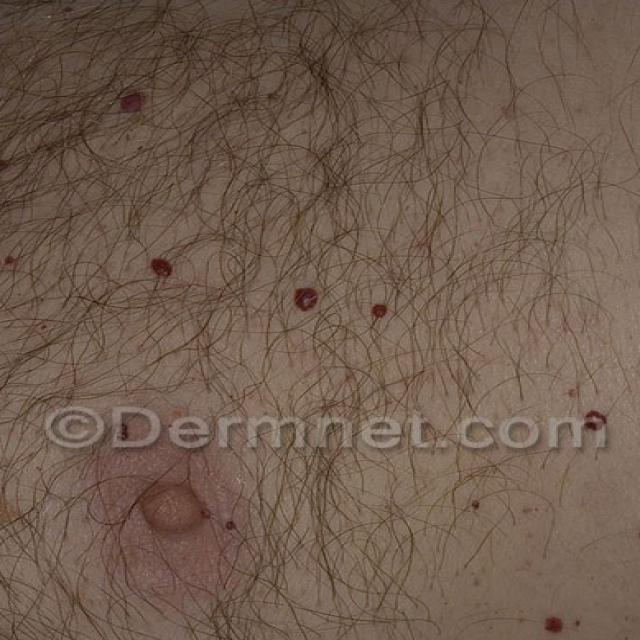Vascular Tumors: (75, 48, 185, 145), (270, 259, 376, 349), (571, 393, 637, 466), (518, 592, 590, 640), (141, 247, 185, 297), (615, 495, 640, 550)
